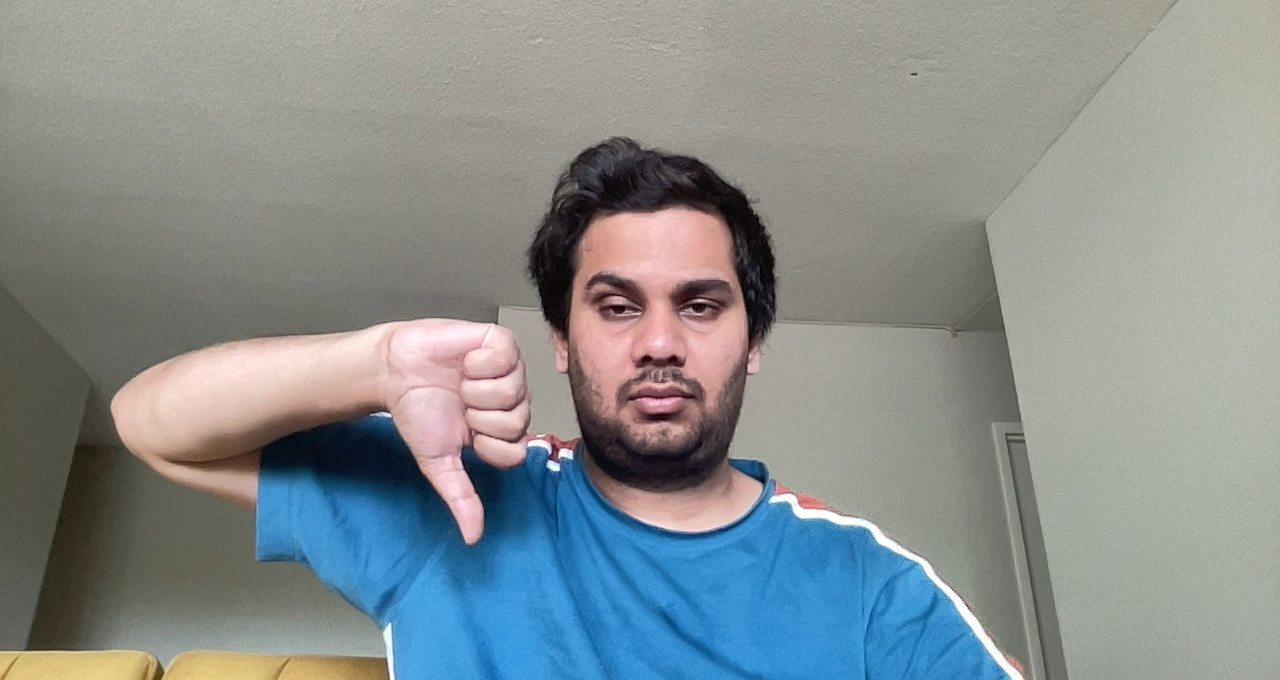thumbsdown: (365, 305, 535, 547)
